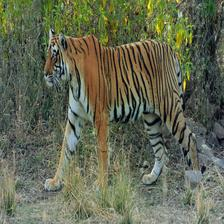tiger: (42, 22, 196, 189)
